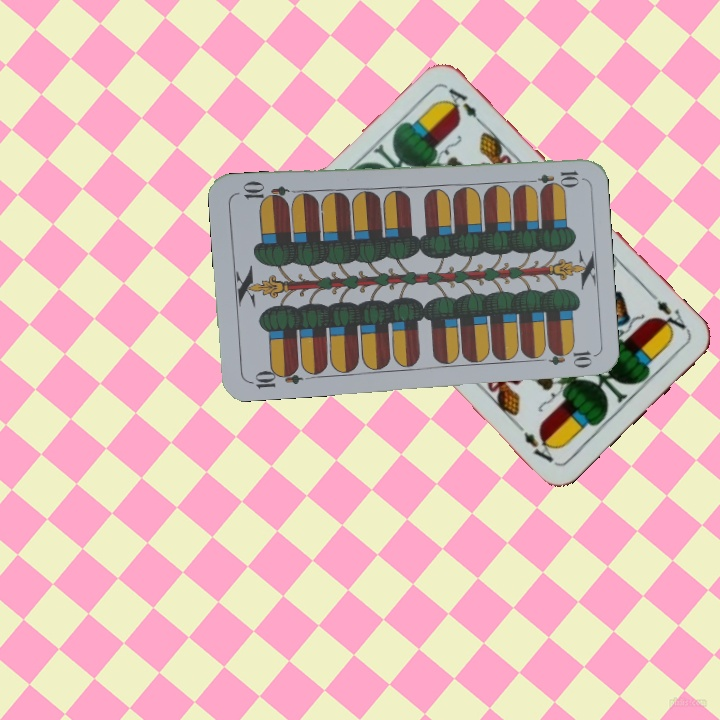E10: (245, 362, 304, 391), (522, 167, 582, 188)
EA: (645, 288, 692, 337)
